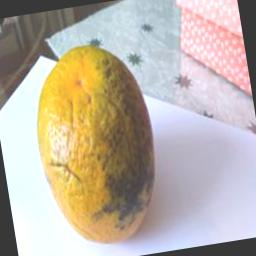Orange Overripe: (19, 26, 180, 254)
